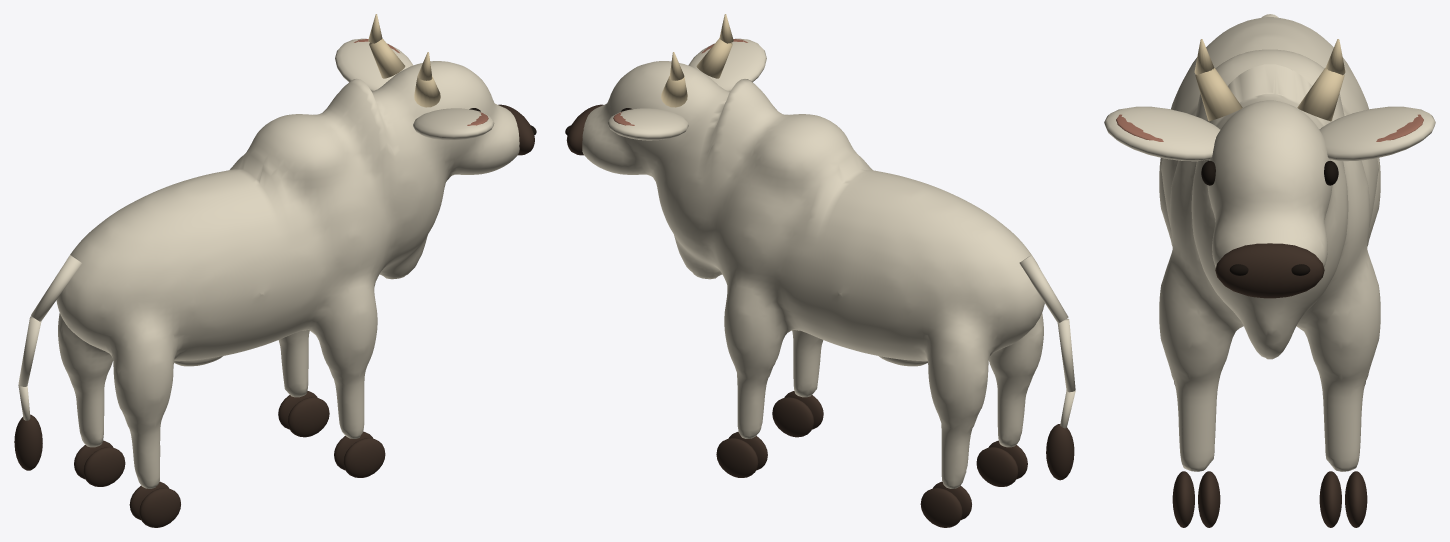
File: adult-bull.glb
The picture shows the model from 3 angles, left to right: view 1: azimuth 30°, elevation 25°; view 2: azimuth 150°, elevation 25°; view 3: azimuth 270°, elevation 25°; orthographic projection. The views are drawn at different scales.
Visible parts, largest first — view 1: Adult bull - Cream body.001, Adult bull - Cream Ear.002, Adult bull - Cream Ear.003, Adult bull - Cream Cloven hoof.008, Adult bull - Cream Cloven hoof.014, Adult bull - Cream Cloven hoof.010, Adult bull - Cream Cloven hoof.012, Adult bull - Cream Tail tuft.001, Adult bull - Cream Tail.003, Adult bull - Cream Horn base.003, Adult bull - Cream Tail.004, Adult bull - Cream Nose.001 (+1 smaller); view 2: Adult bull - Cream body.001, Adult bull - Cream Ear.003, Adult bull - Cream Ear.002, Adult bull - Cream Cloven hoof.011, Adult bull - Cream Cloven hoof.013, Adult bull - Cream Cloven hoof.009, Adult bull - Cream Cloven hoof.015, Adult bull - Cream Tail tuft.001, Adult bull - Cream Tail.003, Adult bull - Cream Horn base.002, Adult bull - Cream Tail.004, Adult bull - Cream Nose.001 (+1 smaller); view 3: Adult bull - Cream body.001, Adult bull - Cream Nose.001, Adult bull - Cream Ear.002, Adult bull - Cream Ear.003, Adult bull - Cream Horn base.002, Adult bull - Cream Horn base.003, Adult bull - Cream Cloven hoof.011, Adult bull - Cream Cloven hoof.014, Adult bull - Cream Cloven hoof.010, Adult bull - Cream Cloven hoof.015, Adult bull - Cream Horn tip.002, Adult bull - Cream Horn tip.003 (+2 smaller).
Part boxes in pixels (x1=…): Adult bull - Cream body.001: x1=56, y1=61, x2=519, y2=488; Adult bull - Cream Ear.002: x1=413, y1=108, x2=494, y2=140; Adult bull - Cream Ear.003: x1=335, y1=38, x2=413, y2=91; Adult bull - Cream Cloven hoof.008: x1=139, y1=488, x2=180, y2=527; Adult bull - Cream Cloven hoof.014: x1=287, y1=397, x2=329, y2=437; Adult bull - Cream Cloven hoof.010: x1=343, y1=438, x2=385, y2=477; Adult bull - Cream Cloven hoof.012: x1=83, y1=447, x2=125, y2=486; Adult bull - Cream Tail tuft.001: x1=14, y1=414, x2=42, y2=470; Adult bull - Cream Tail.003: x1=31, y1=255, x2=82, y2=321; Adult bull - Cream Horn base.003: x1=369, y1=38, x2=405, y2=78; Adult bull - Cream Tail.004: x1=18, y1=316, x2=41, y2=386; Adult bull - Cream Nose.001: x1=498, y1=104, x2=534, y2=155; Adult bull - Cream body.001: x1=582, y1=61, x2=1044, y2=488; Adult bull - Cream Ear.003: x1=607, y1=108, x2=688, y2=140; Adult bull - Cream Ear.002: x1=688, y1=38, x2=766, y2=91; Adult bull - Cream Cloven hoof.011: x1=772, y1=397, x2=813, y2=437; Adult bull - Cream Cloven hoof.013: x1=920, y1=488, x2=962, y2=527; Adult bull - Cream Cloven hoof.009: x1=976, y1=447, x2=1018, y2=486; Adult bull - Cream Cloven hoof.015: x1=716, y1=438, x2=758, y2=477; Adult bull - Cream Tail tuft.001: x1=1046, y1=424, x2=1074, y2=480; Adult bull - Cream Tail.003: x1=1019, y1=255, x2=1068, y2=322; Adult bull - Cream Horn base.002: x1=696, y1=38, x2=732, y2=78; Adult bull - Cream Tail.004: x1=1057, y1=318, x2=1075, y2=392; Adult bull - Cream Nose.001: x1=566, y1=104, x2=603, y2=155; Adult bull - Cream body.001: x1=1159, y1=17, x2=1380, y2=471; Adult bull - Cream Nose.001: x1=1215, y1=243, x2=1324, y2=298; Adult bull - Cream Ear.002: x1=1104, y1=106, x2=1220, y2=161; Adult bull - Cream Ear.003: x1=1319, y1=106, x2=1435, y2=161; Adult bull - Cream Horn base.002: x1=1195, y1=68, x2=1242, y2=121; Adult bull - Cream Horn base.003: x1=1297, y1=68, x2=1344, y2=121; Adult bull - Cream Cloven hoof.011: x1=1198, y1=471, x2=1220, y2=527; Adult bull - Cream Cloven hoof.014: x1=1319, y1=471, x2=1341, y2=527; Adult bull - Cream Cloven hoof.010: x1=1172, y1=471, x2=1194, y2=527; Adult bull - Cream Cloven hoof.015: x1=1345, y1=471, x2=1367, y2=527; Adult bull - Cream Horn tip.002: x1=1194, y1=39, x2=1214, y2=75; Adult bull - Cream Horn tip.003: x1=1325, y1=39, x2=1345, y2=75.
Bounding box in the file's own units: 2.72 × 2.09 × 1.18.
